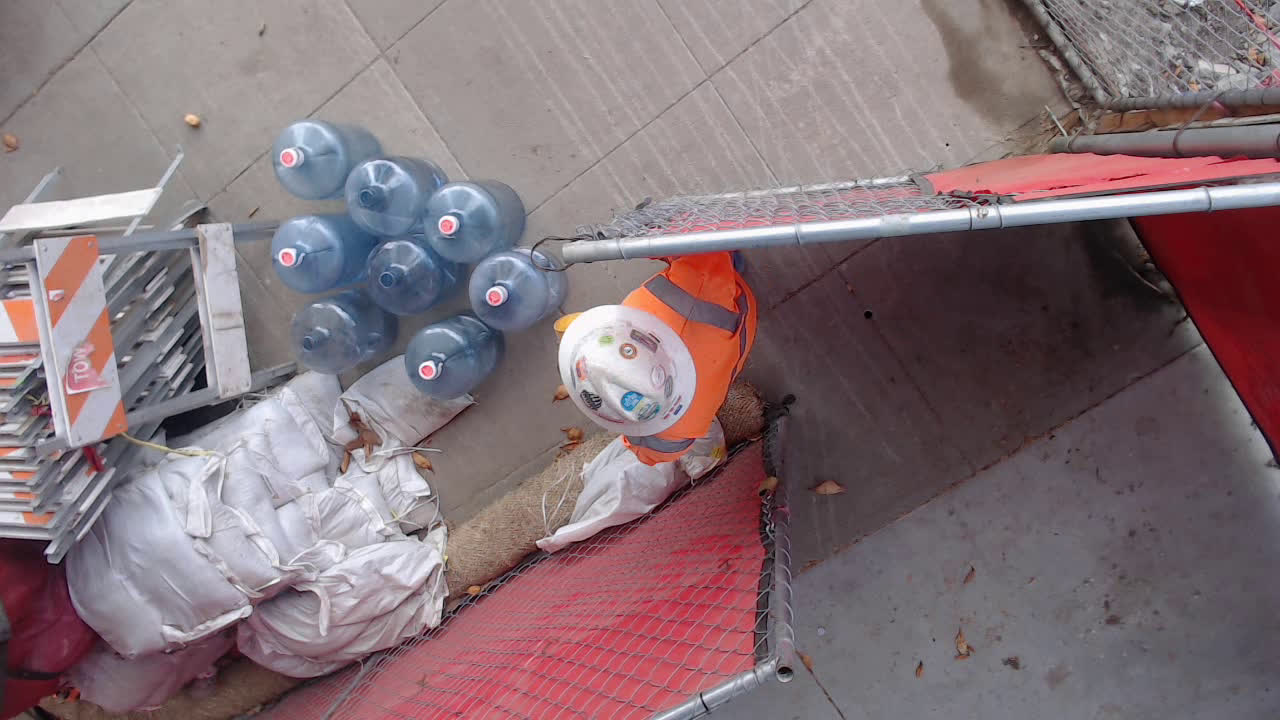hardhat: (560, 303, 698, 435)
safetyvest: (608, 252, 759, 470)
